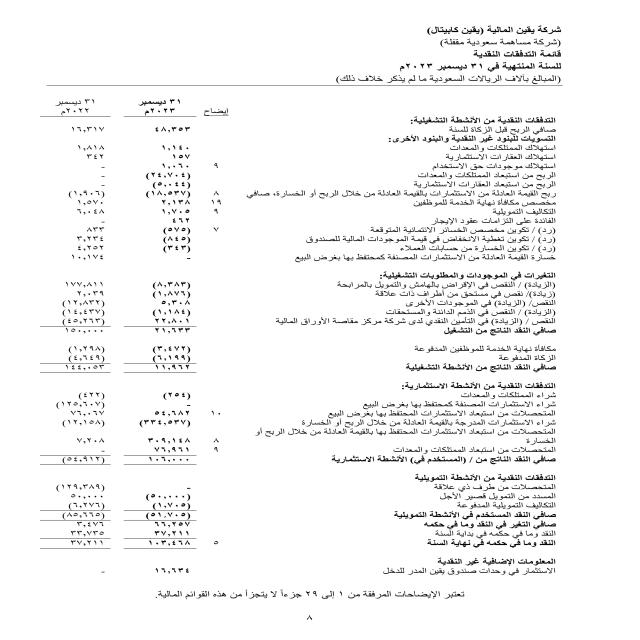financial_sheets: (468, 48, 565, 64)
table: (14, 82, 248, 596)
